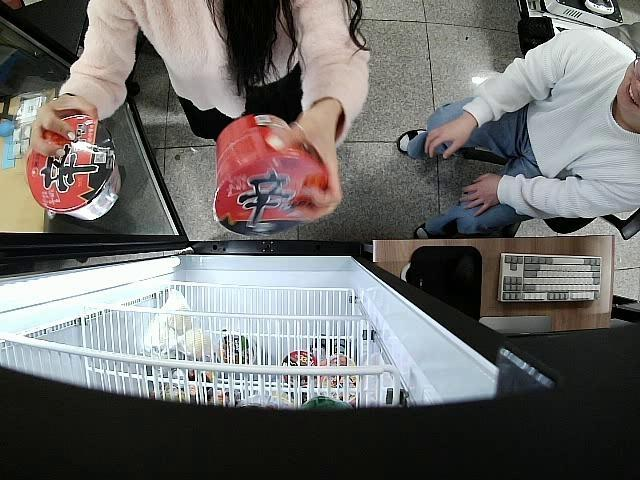01_ShinRamen_L: (212, 116, 328, 237), (25, 115, 124, 220)
